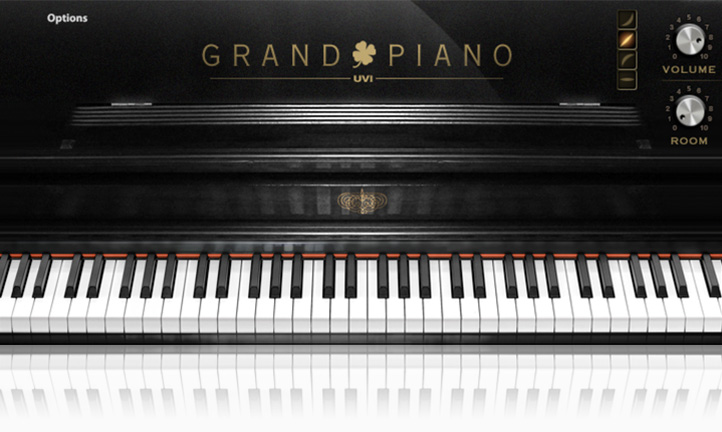GrandPiano: (18, 12, 720, 382)
